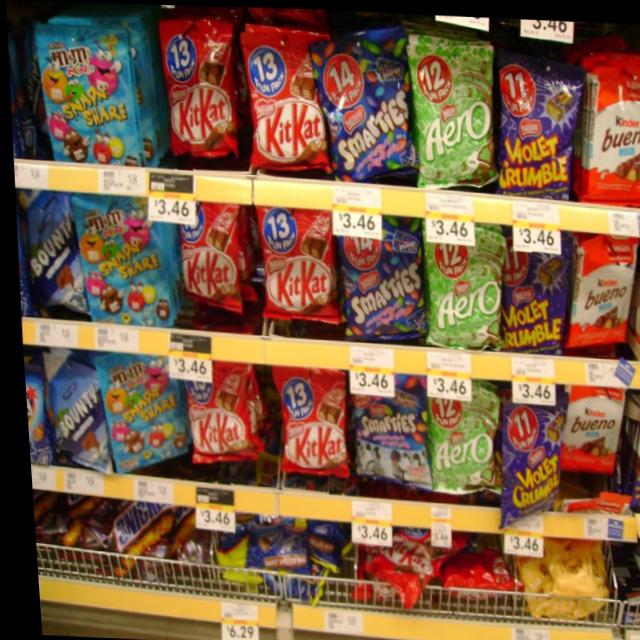q280: (243, 24, 323, 166), (155, 22, 236, 162), (180, 193, 258, 322), (172, 359, 253, 481), (269, 360, 354, 476), (252, 207, 333, 325)
